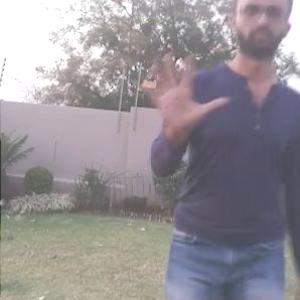follow_hand: (133, 47, 231, 135)
